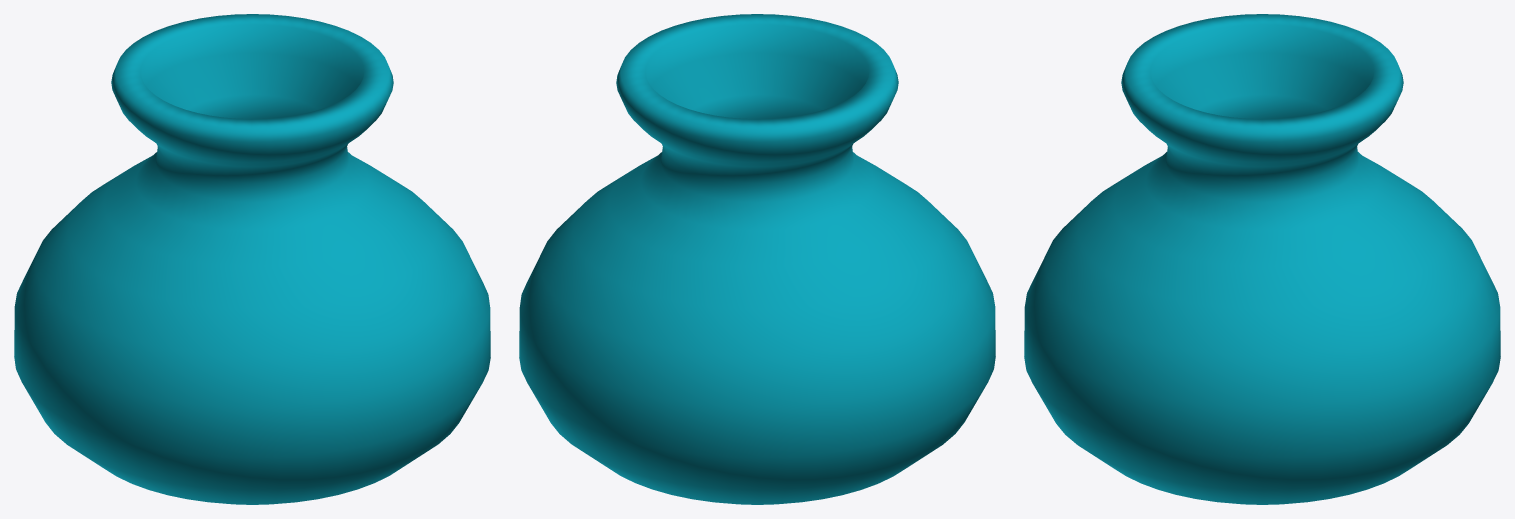
The model's file is vase_0_intact.fbx.
3 renders of one model, left to right at view 1: azimuth 30°, elevation 25°; view 2: azimuth 150°, elevation 25°; view 3: azimuth 270°, elevation 25°, orthographic.
Visible parts, largest first — view 1: BezierCircle.002; view 2: BezierCircle.002; view 3: BezierCircle.002.
Part boxes in pixels (left/top/right/bottom): BezierCircle.002: left=14, top=14, right=490, bottom=504; BezierCircle.002: left=519, top=14, right=995, bottom=504; BezierCircle.002: left=1024, top=14, right=1500, bottom=504.
Size of the model in its own units: 395 by 361 by 395.
